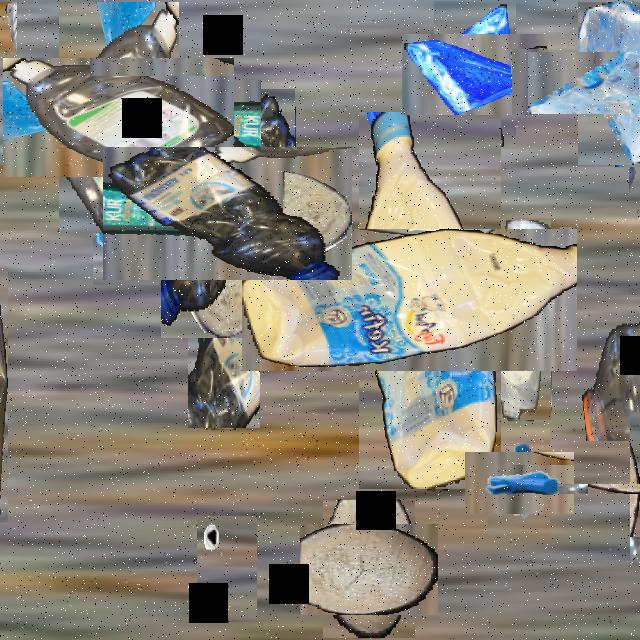glass: (418, 18, 532, 132), (552, 27, 640, 139), (93, 167, 159, 285), (594, 192, 640, 273), (0, 2, 17, 165)
metal: (476, 441, 562, 526), (197, 516, 257, 622)
plastic: (300, 171, 560, 430), (132, 118, 324, 309), (31, 30, 207, 205), (188, 176, 260, 428), (456, 255, 586, 385), (577, 192, 640, 441), (0, 268, 8, 524)
wood: (312, 511, 426, 627), (190, 85, 266, 160), (594, 448, 640, 529)
